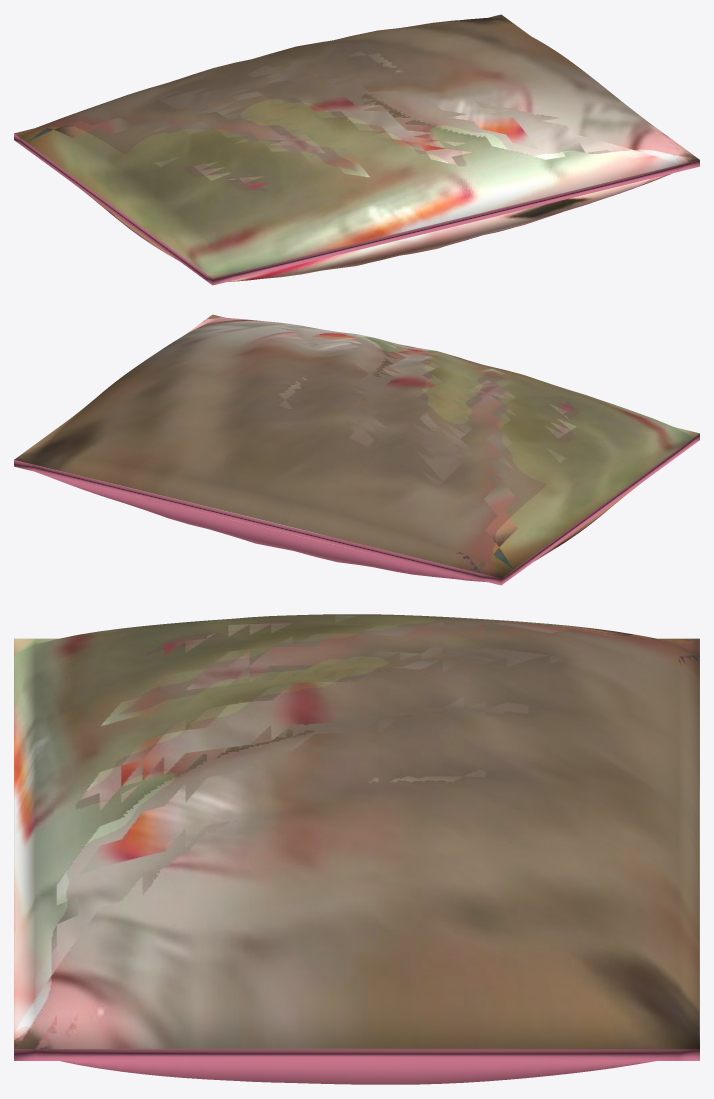
3 views of the same model, one above another, from view 1: azimuth 30°, elevation 25°; view 2: azimuth 150°, elevation 25°; view 3: azimuth 270°, elevation 25° (orthographic). The views are drawn at different scales.
Parts seen in each view (by area): view 1: pink_snack_pouch__body; view 2: pink_snack_pouch__body; view 3: pink_snack_pouch__body.
Boxes of the visible parts, x1,y1,x2,y2 form: pink_snack_pouch__body: (14,14,699,285); pink_snack_pouch__body: (14,314,699,585); pink_snack_pouch__body: (14,614,699,1084).
Size of the model in its own units: 0.1602 by 0.0424 by 0.1131.
Materials: 3 (2 with a texture image).
